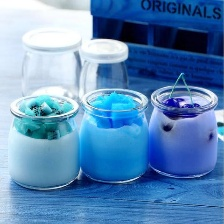bottle: (146, 81, 222, 182), (77, 87, 152, 189), (4, 93, 80, 191), (17, 24, 81, 95), (78, 35, 132, 107)
